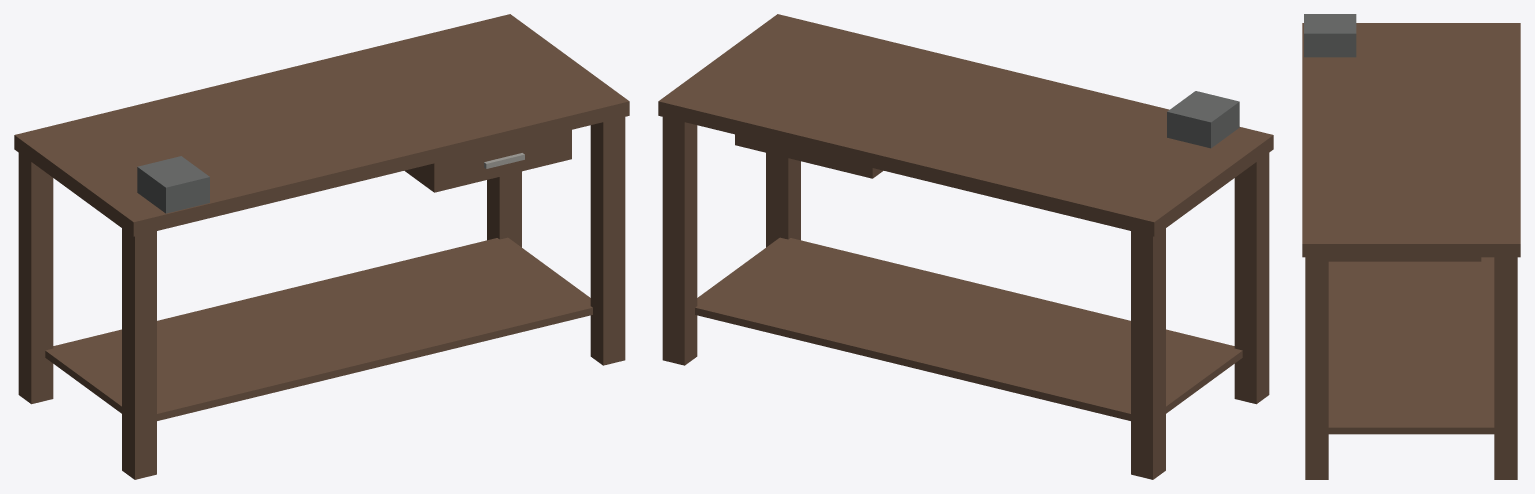
File: workbench.glb
3 views of the same model, side by side, from view 1: azimuth 30°, elevation 25°; view 2: azimuth 150°, elevation 25°; view 3: azimuth 270°, elevation 25° (orthographic). The views are drawn at different scales.
Parts seen in each view (by area): view 1: wood, metal; view 2: wood, metal; view 3: wood, metal.
Part boxes in pixels (box(x1,y1,x2,y2)): wood: box(14, 14, 629, 479); metal: box(137, 156, 209, 213); wood: box(658, 14, 1273, 479); metal: box(1167, 91, 1239, 148); wood: box(1302, 23, 1520, 479); metal: box(1304, 14, 1356, 57).
Bounding box in the file's own units: 1.8 × 0.99 × 0.75.
